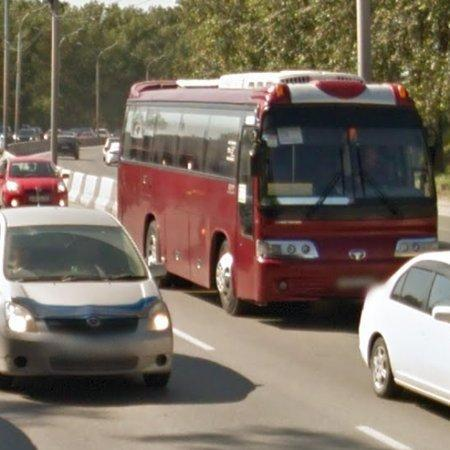buses: (118, 70, 439, 314)
